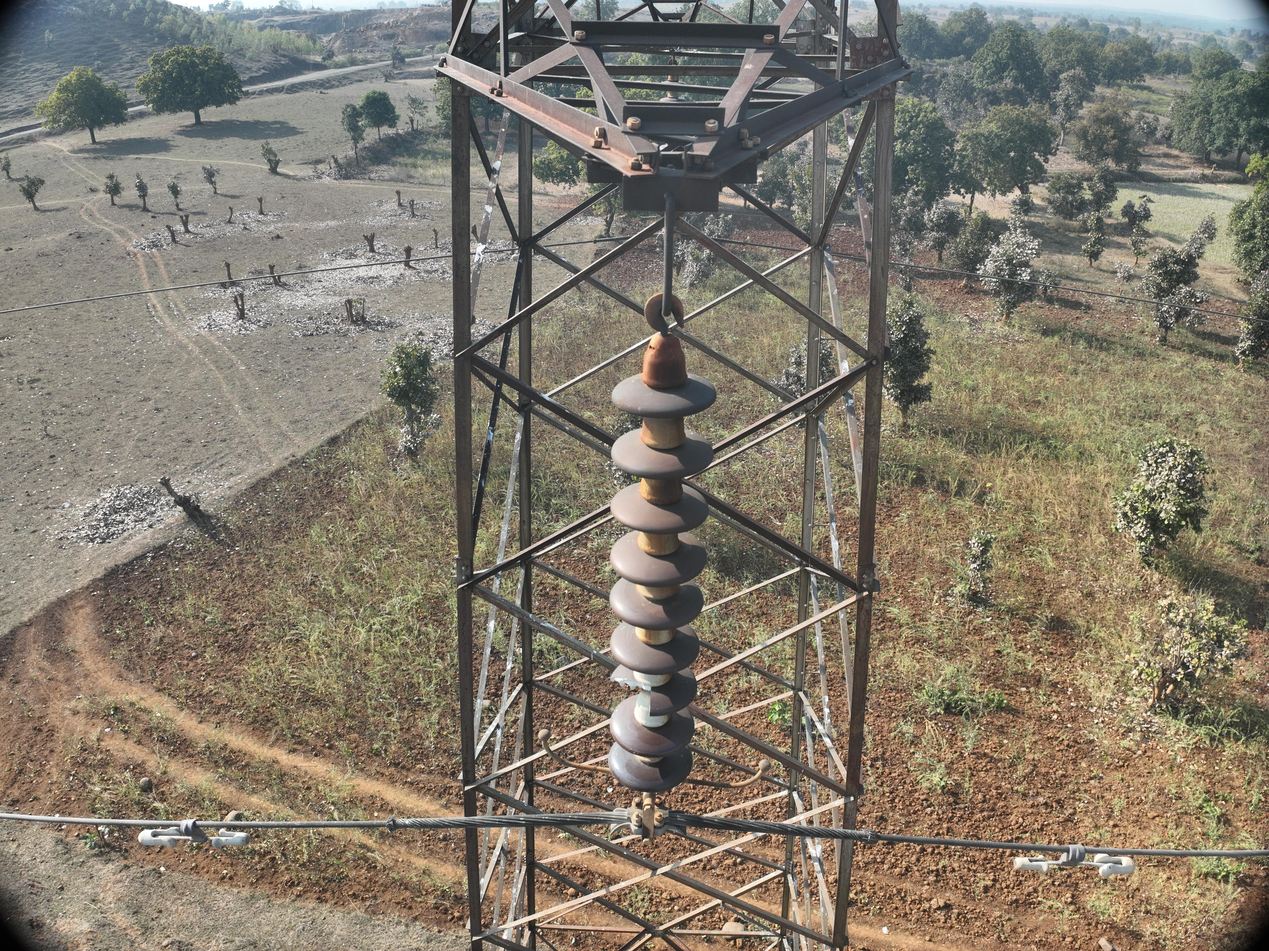broken_insulator: (608, 666, 699, 720)
